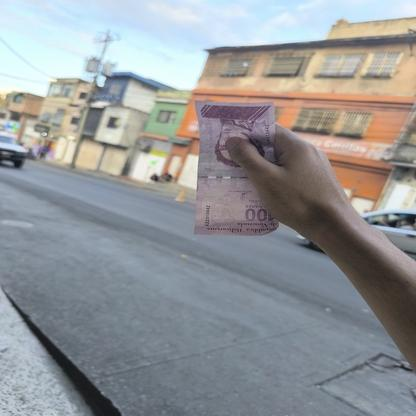one_hundred-front-vef: (193, 99, 276, 237)
